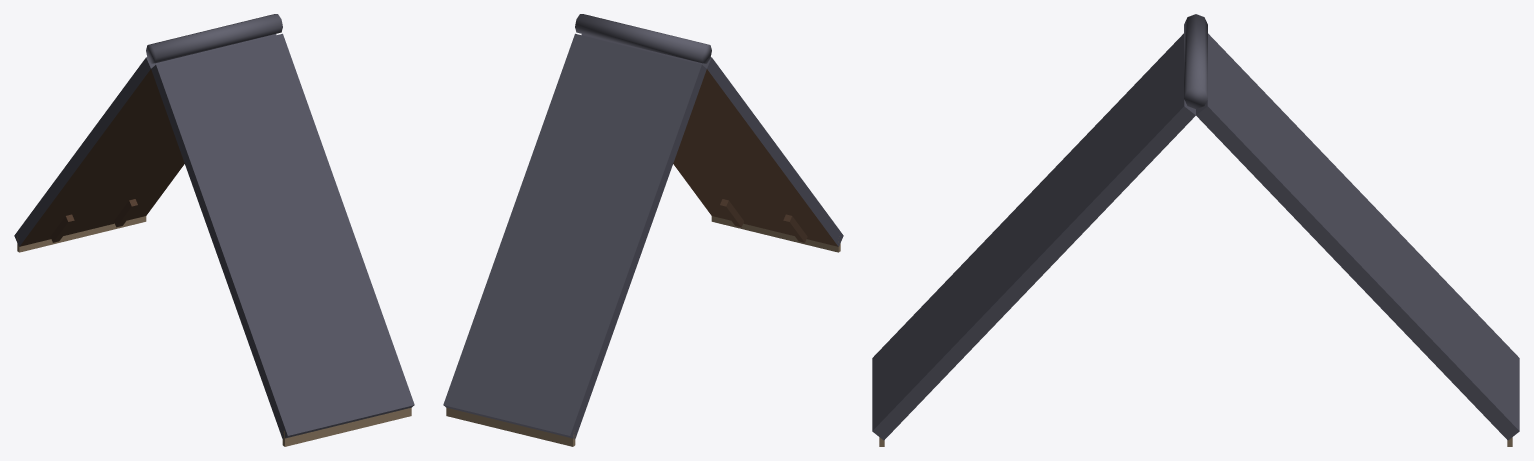
File: kit_clapboard_slate_w3.glb
The picture shows the model from 3 angles, left to right: view 1: azimuth 30°, elevation 25°; view 2: azimuth 150°, elevation 25°; view 3: azimuth 270°, elevation 25°; orthographic projection. The views are drawn at different scales.
Parts seen in each view (by area): view 1: kit_clapboard_slate_w3; view 2: kit_clapboard_slate_w3; view 3: kit_clapboard_slate_w3.
Boxes of the visible parts, left/top/right/bottom form: kit_clapboard_slate_w3: left=14, top=14, right=414, bottom=446; kit_clapboard_slate_w3: left=443, top=14, right=843, bottom=446; kit_clapboard_slate_w3: left=872, top=14, right=1519, bottom=446.
Size of the model in its own units: 1 by 2.29 by 3.74.
